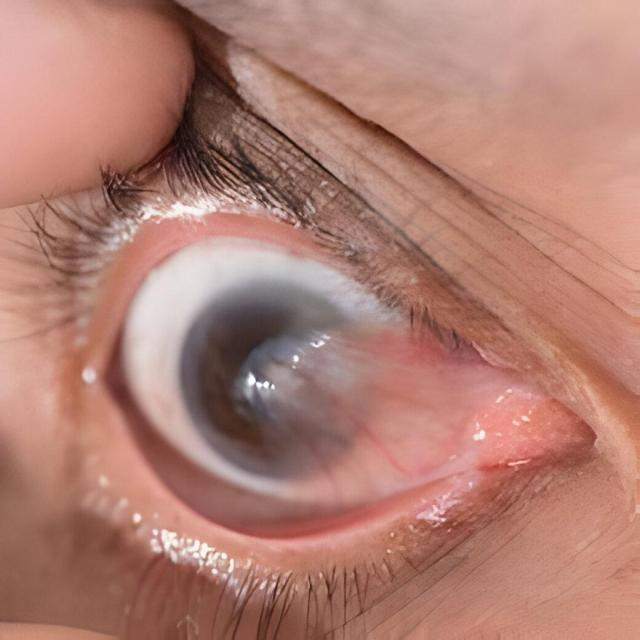Pterygium: (216, 306, 522, 502)
